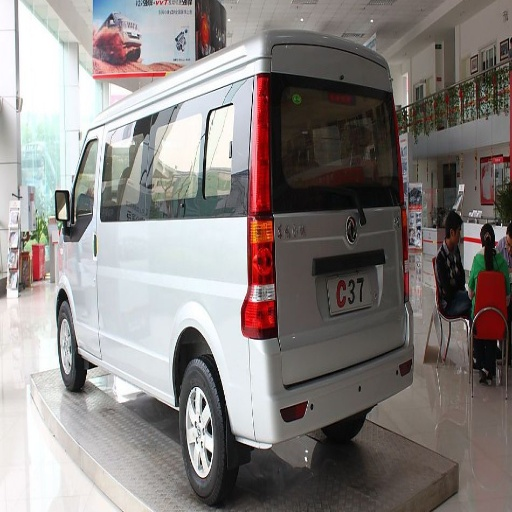back_bumper: (225, 307, 414, 447)
back_left_light: (241, 70, 277, 339)
tailgate: (272, 173, 399, 327)
trunk: (133, 221, 236, 385), (276, 297, 397, 385), (283, 92, 350, 144)
